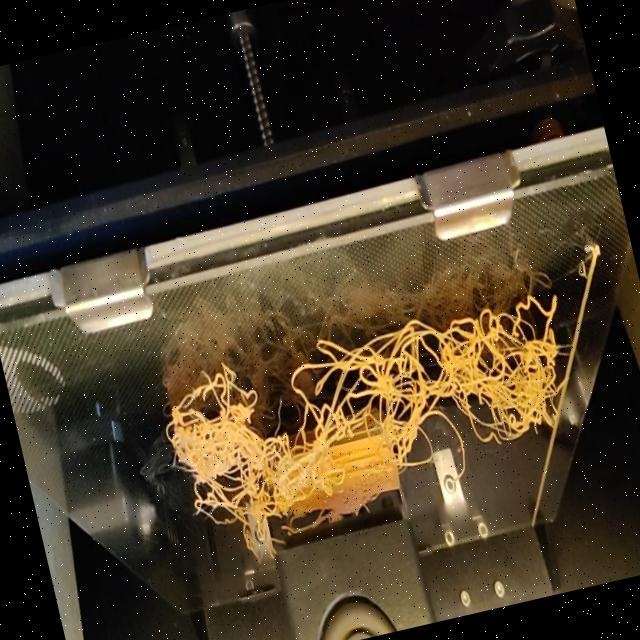spaghetti: (150, 278, 602, 572)
